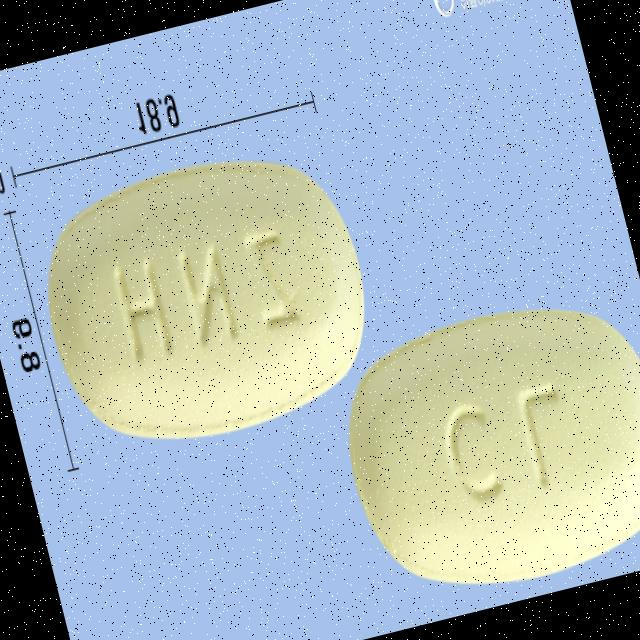Claniz: (15, 124, 399, 474), (322, 277, 640, 621)
